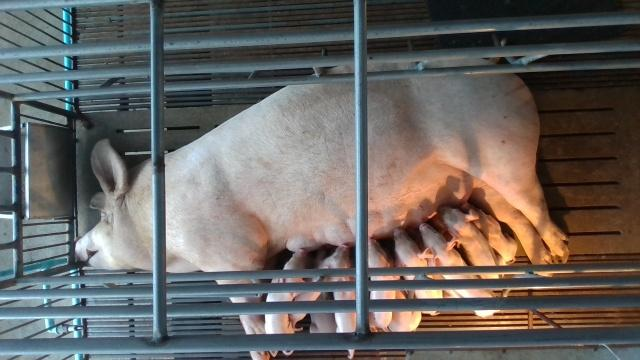piglet: (418, 224, 501, 316), (438, 206, 503, 280), (395, 228, 442, 315), (266, 248, 308, 333), (465, 206, 518, 264), (327, 244, 356, 332), (368, 239, 393, 329)
sow-sleep-lactate: (75, 61, 569, 360)
